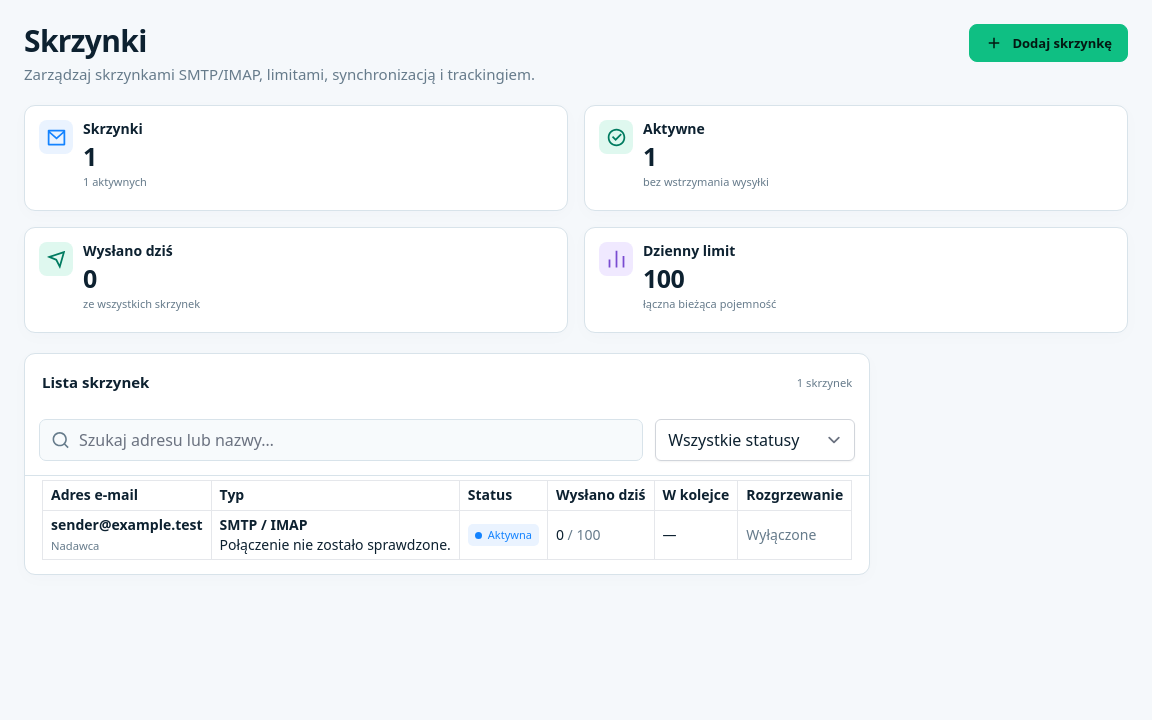
tests draft SMTP and IMAP without creating a mailbox and clears the result after editing
Click the button "Dodaj skrzynkę" at x=1049, y=43, box [970,24,1128,62]
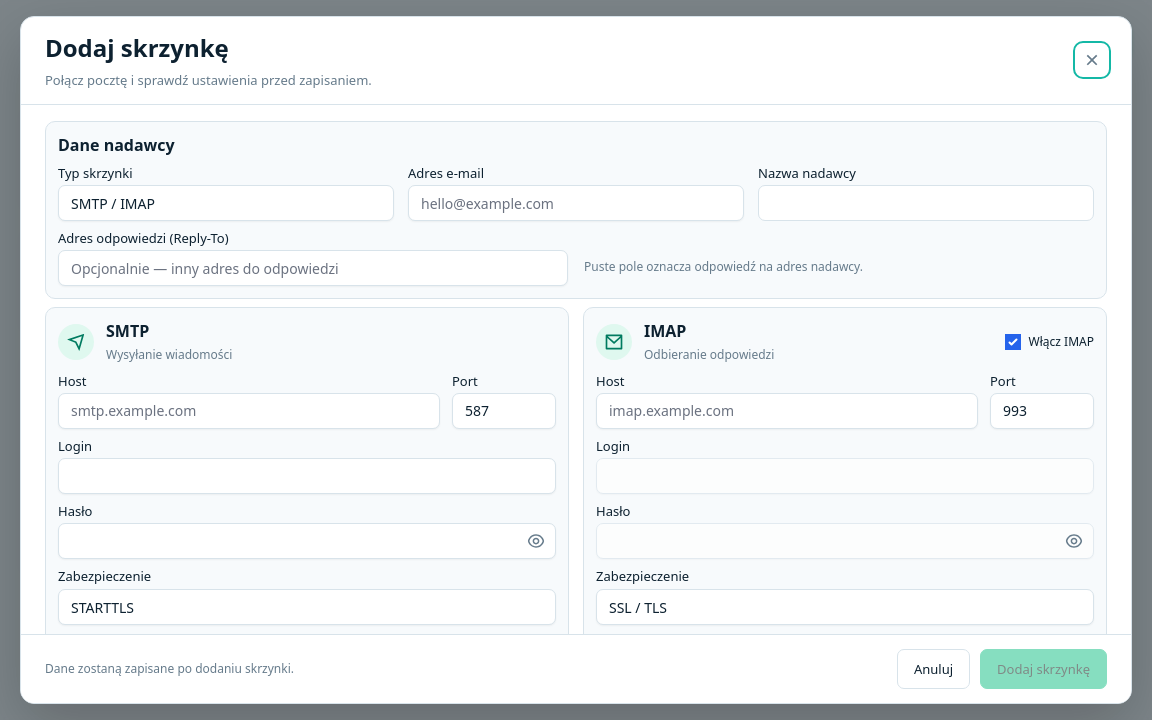
Type "new@example.test" into the field with id "inbox-add-2" at x=576, y=203, box [408,185,744,221]
Type "smtp.example.test" into the field with id "inbox-add-9" at x=249, y=411, box [58,393,440,429]
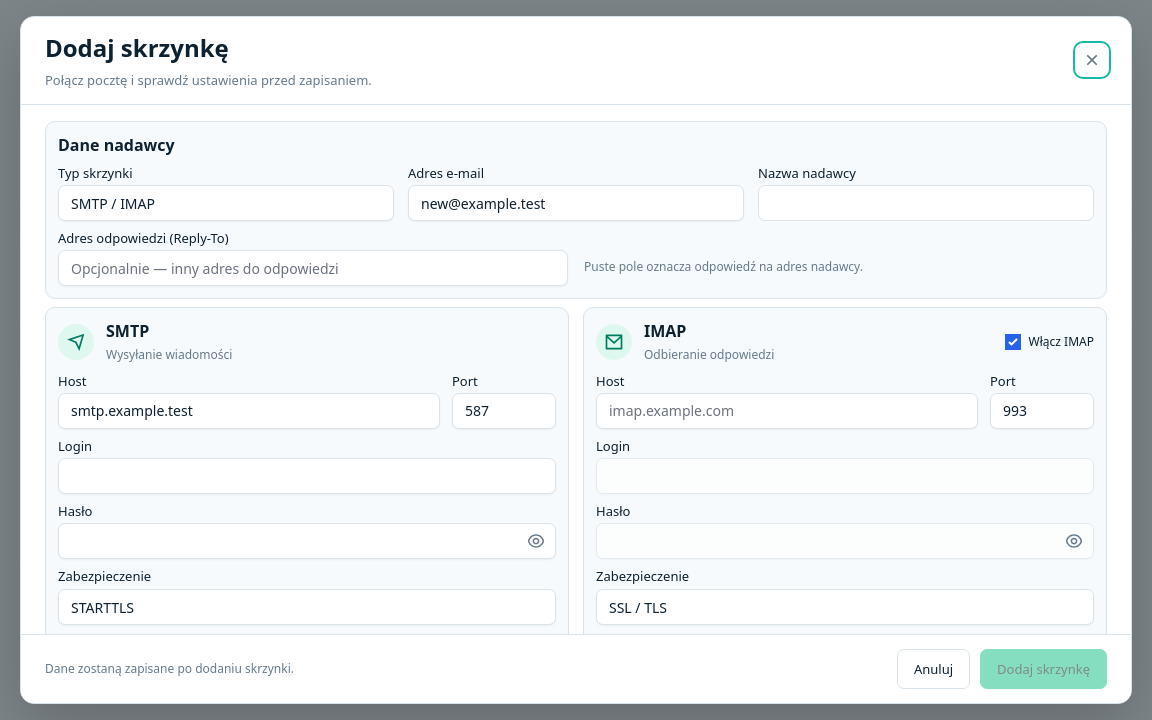
Type "new" into the field with id "inbox-add-11" at x=307, y=476, box [58,458,556,494]
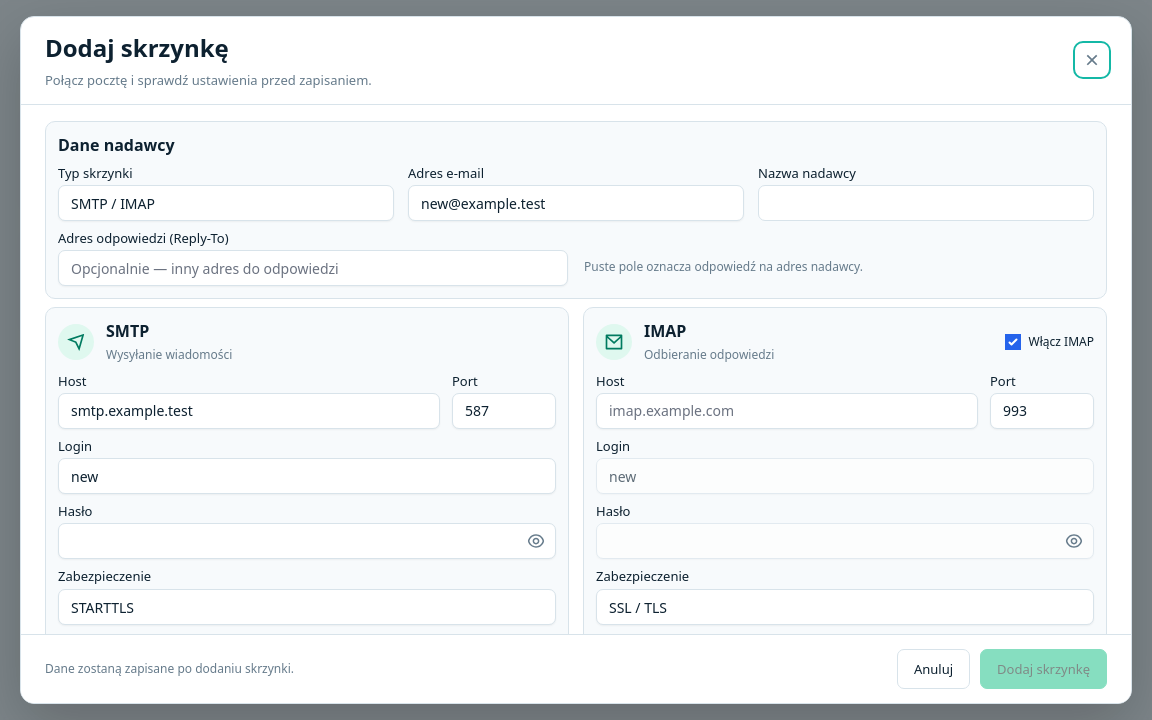
Type "secret" into the password field with id "inbox-add-12" at x=307, y=541, box [58,523,556,559]
(page scrolled)
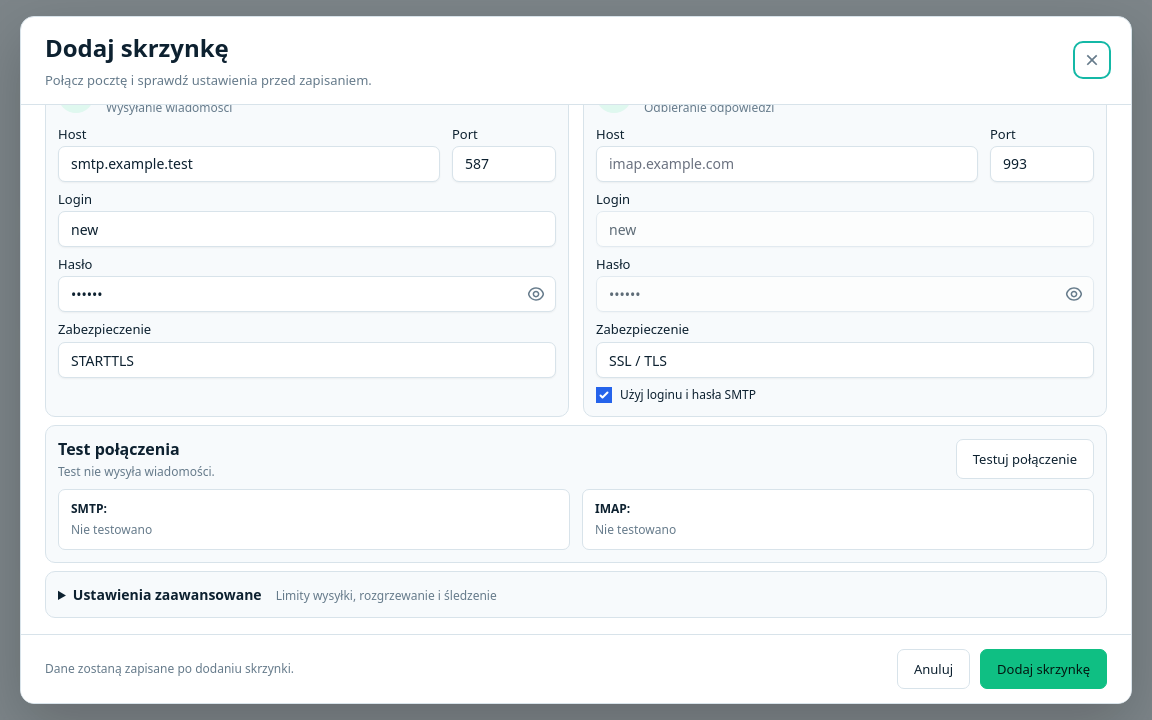
Click the button "Testuj połączenie" at x=1025, y=459, box [956,439,1094,479]
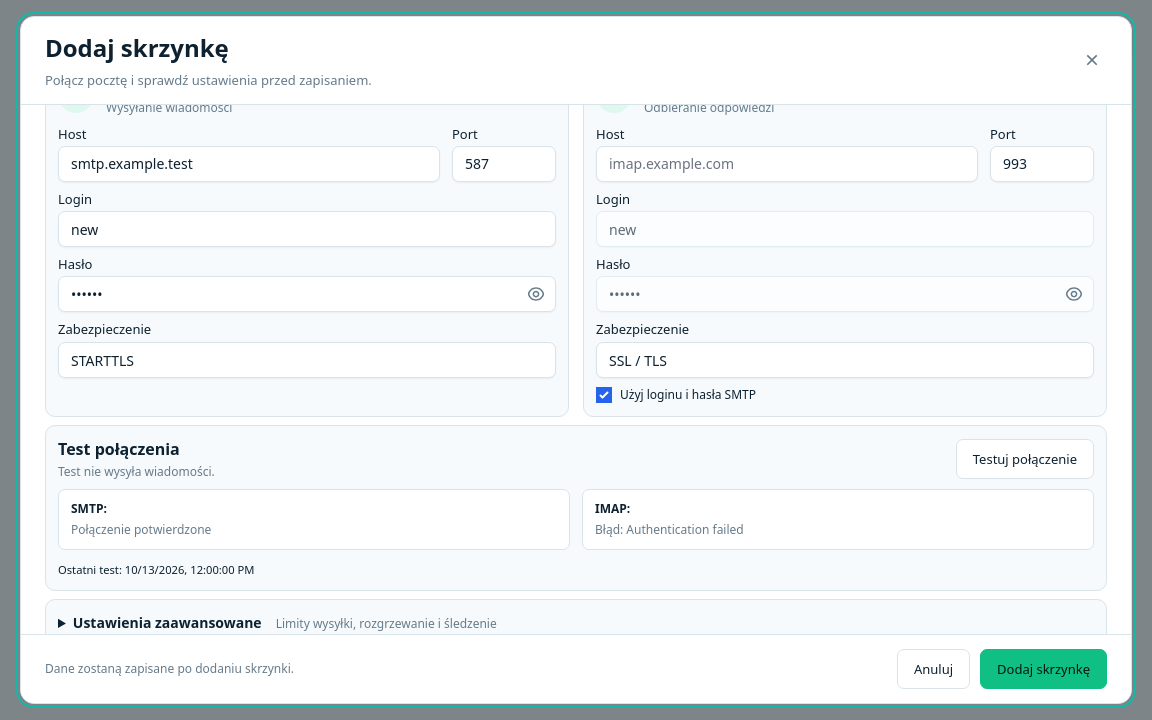
Now the text "IMAP: Błąd: Authentication failed" is shown, box [582,489,1094,550]
Replace the text in the field with id "inbox-add-9" with "other.example.test" at x=249, y=164, box [58,146,440,182]
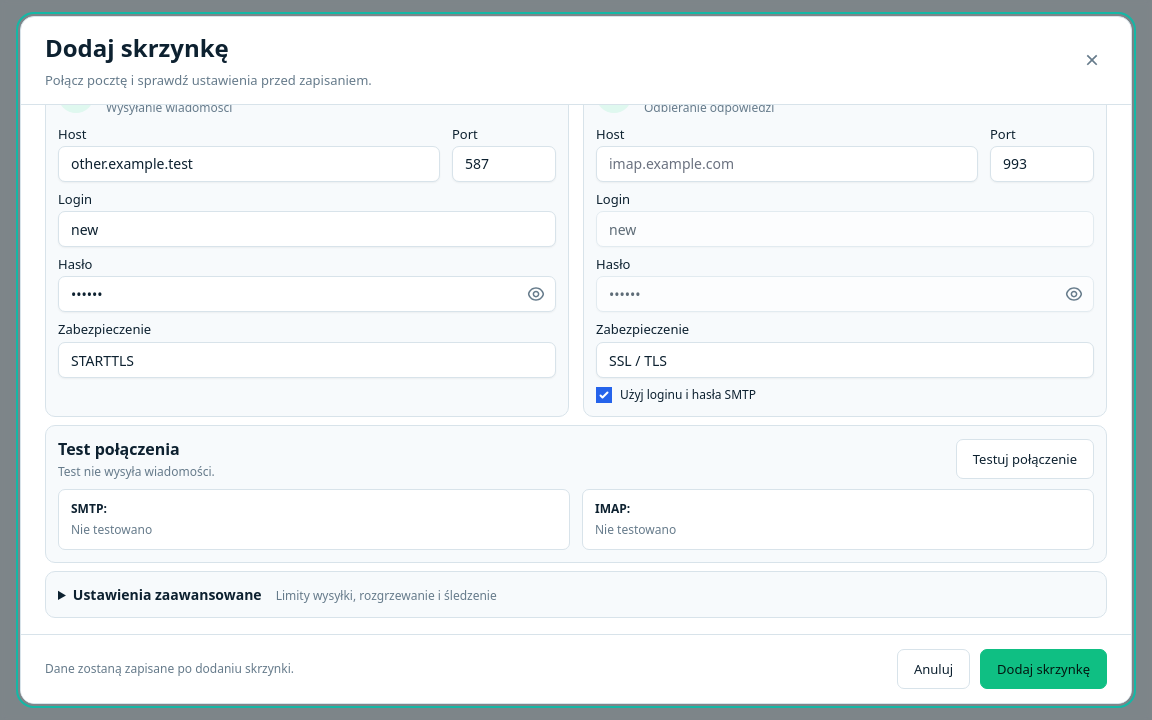
Now the text "Authentication failed" is gone
